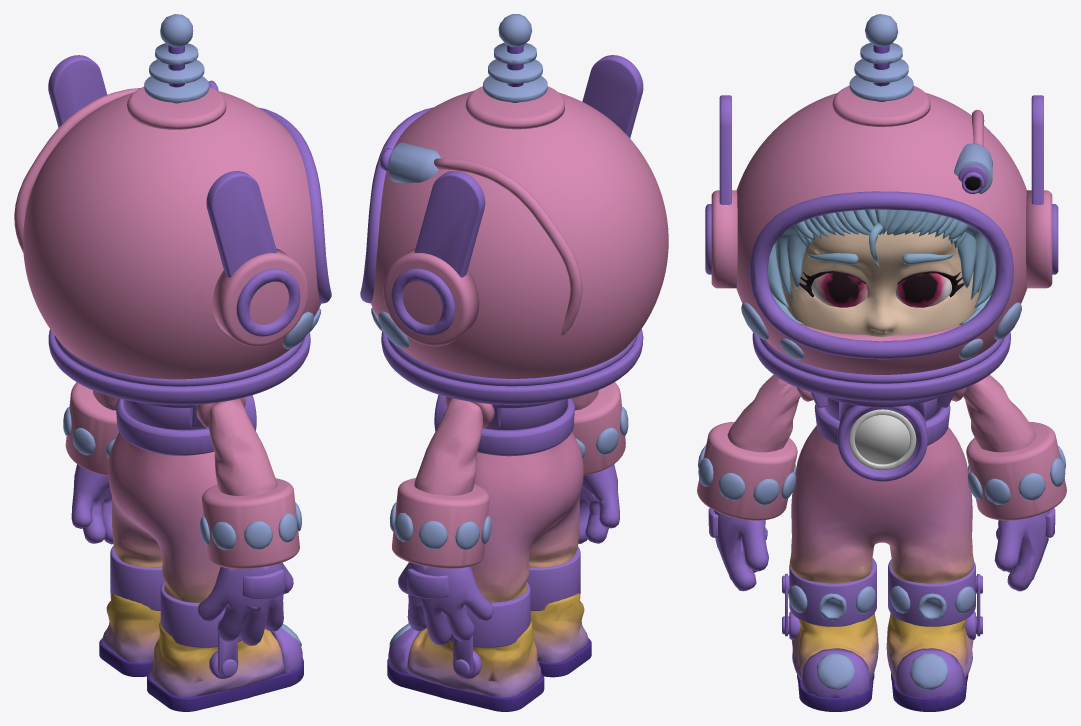
The model's file is soshie-lite.glb.
3 views of the same model, side by side, from view 1: azimuth 30°, elevation 25°; view 2: azimuth 150°, elevation 25°; view 3: azimuth 270°, elevation 25° (orthographic).
Visible parts, largest first — view 1: Soshie; view 2: Soshie; view 3: Soshie.
Boxes of the visible parts, x1,y1,x2,y2 form: Soshie: (14,14,331,711); Soshie: (360,14,668,711); Soshie: (697,14,1066,711).
Bounding box in the file's own units: 0.0584 × 0.1394 × 0.072.
